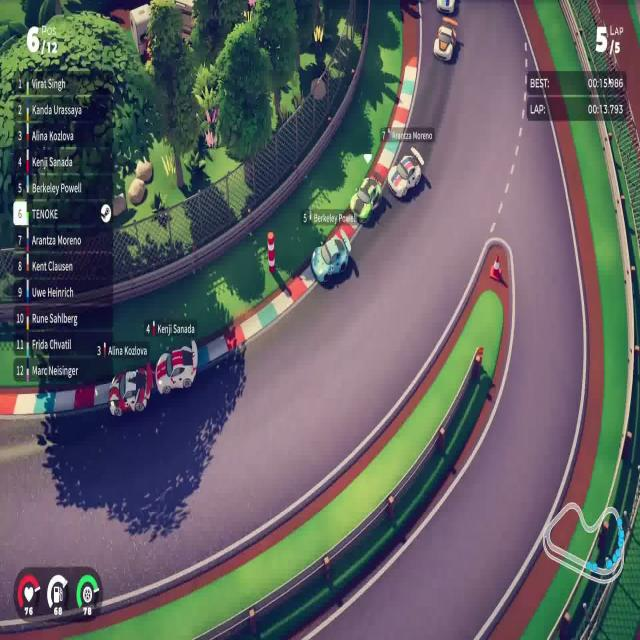car: (107, 362, 152, 418), (154, 342, 198, 396), (310, 230, 352, 280), (387, 145, 424, 200), (350, 171, 385, 222)
